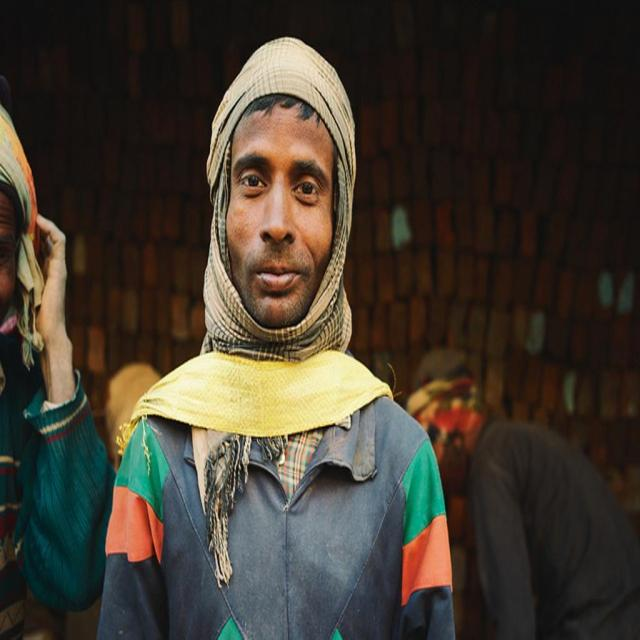Face: (223, 102, 348, 321)
